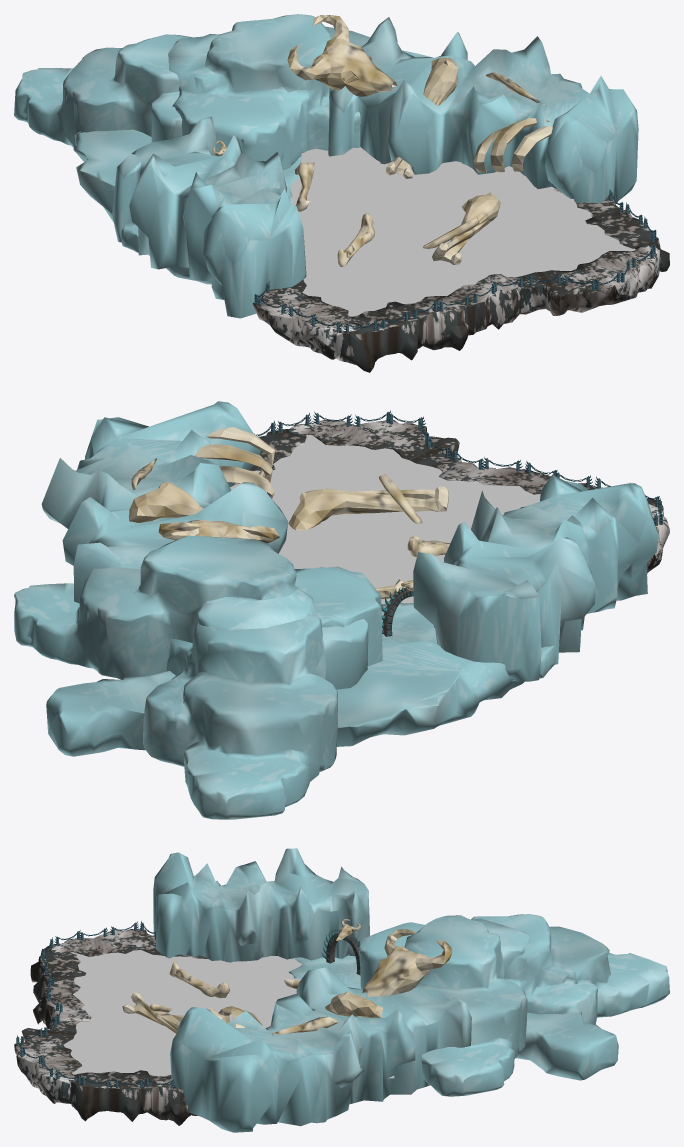
3 renders of one model, top to bottom at view 1: azimuth 30°, elevation 25°; view 2: azimuth 150°, elevation 25°; view 3: azimuth 270°, elevation 25°, orthographic. The views are drawn at different scales.
Visible parts, largest first — view 1: RockWalkway_17; view 2: RockWalkway_17; view 3: RockWalkway_17.
Part boxes in pixels (x1,y1,x2,y2): RockWalkway_17: (14, 14, 669, 372); RockWalkway_17: (14, 401, 669, 819); RockWalkway_17: (14, 848, 669, 1132).
Size of the model in its own units: 513 by 152 by 697.
